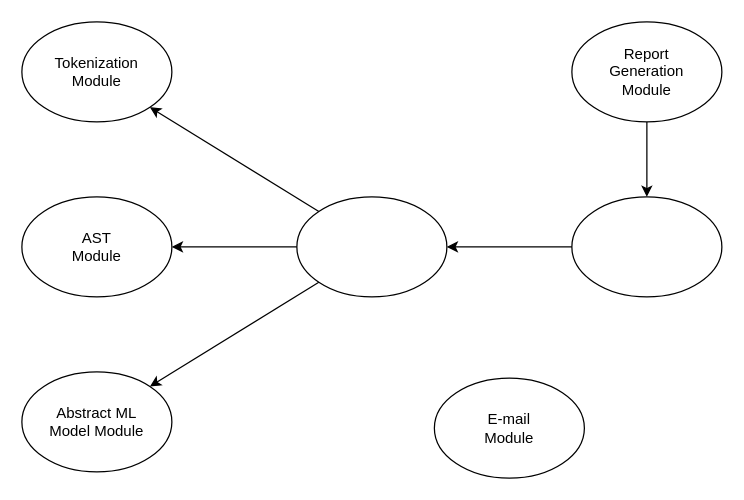
Some shapes in this 744 by 500 pixel diagram are drawn without their labels. The shapes that lost their labels are listed below. From the top down, each one's box as (x1, y1, x2, y2) in pixels, then its label:
(296, 196, 447, 297): NLP Module
(571, 196, 722, 297): Similarity Module
